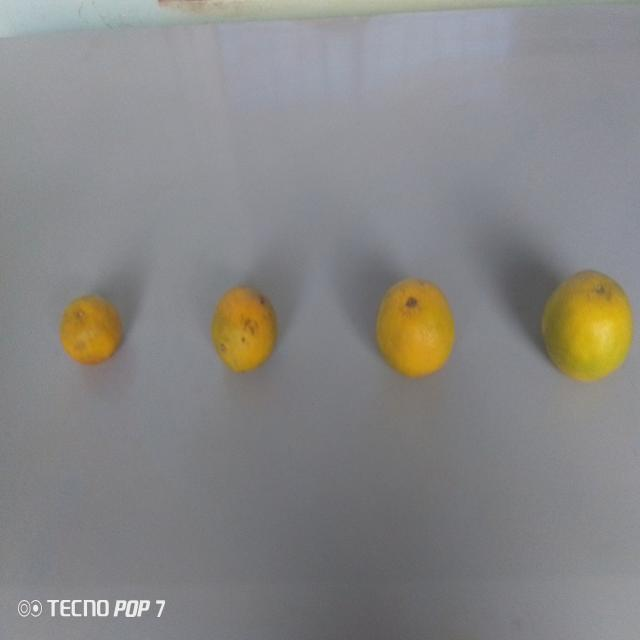Ripe orange: (538, 263, 636, 388), (371, 270, 458, 391), (207, 284, 282, 383), (58, 289, 128, 375)
